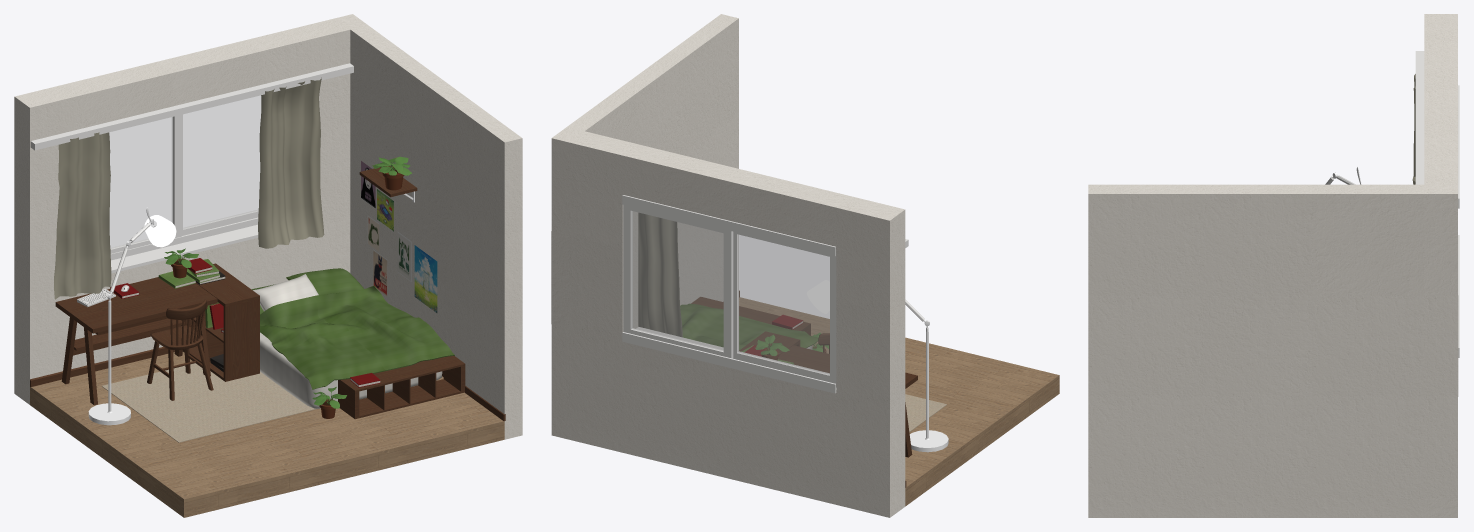
File: cozy_bedroom.glb
3 renders of one model, left to right at view 1: azimuth 30°, elevation 25°; view 2: azimuth 150°, elevation 25°; view 3: azimuth 270°, elevation 25°, orthographic. The views are drawn at different scales.
Visible parts, largest first — view 1: polySurface4, curtain, window1, pPlane23, wall21, window2, wall20, wall17, wood_floor6, wall23, wall13, wood_floor5 (+42 smaller); view 2: window1, window2, wall, wall8, wall7, wall13, wall6, wall11, wall9, wall21, wall14, wall10 (+22 smaller); view 3: wall15, wall23, wall19, wall16, wall17, wall21, wall22, wall20, wall18, wall10, wall12, wall13 (+2 smaller).
Boxes of the visible parts, <box> form: polySurface4: <box>260,285,454,389</box>; curtain: <box>258,77,324,248</box>; window1: <box>183,95,261,229</box>; pPlane23: <box>54,132,111,299</box>; wall21: <box>453,100,522,235</box>; window2: <box>109,117,172,248</box>; wall20: <box>453,198,522,327</box>; wall17: <box>453,291,522,439</box>; wood_floor6: <box>186,427,326,504</box>; wall23: <box>335,14,419,156</box>; wall13: <box>246,18,350,129</box>; wood_floor5: <box>275,410,415,482</box>; window1: <box>631,211,723,350</box>; window2: <box>738,235,829,375</box>; wall: <box>569,328,658,461</box>; wall8: <box>747,372,836,504</box>; wall7: <box>658,350,747,482</box>; wall13: <box>569,131,673,248</box>; wall6: <box>836,393,905,517</box>; wall11: <box>836,196,905,313</box>; wall9: <box>836,301,905,406</box>; wall21: <box>670,14,738,148</box>; wall14: <box>569,235,638,340</box>; wall10: <box>747,175,851,249</box>; wall15: <box>1312,396,1457,517</box>; wall23: <box>1312,184,1457,295</box>; wall19: <box>1312,295,1458,396</box>; wall16: <box>1200,396,1312,517</box>; wall17: <box>1088,396,1200,517</box>; wall21: <box>1088,184,1200,295</box>; wall22: <box>1200,184,1312,295</box>; wall20: <box>1088,295,1200,396</box>; wall18: <box>1200,295,1312,396</box>; wall10: <box>1424,42,1457,89</box>; wall12: <box>1424,89,1457,136</box>; wall13: <box>1424,137,1457,184</box>.
Size of the model in its own units: 3.8 by 3.19 by 3.32.
8 materials, 3 textured.
